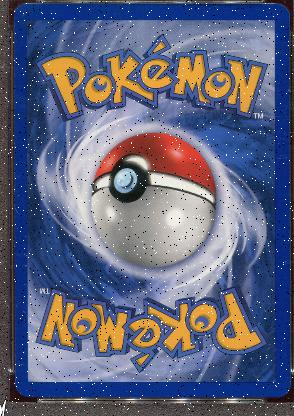Card: (10, 0, 292, 400)
Scratch: (249, 370, 260, 380), (12, 205, 21, 217), (264, 326, 274, 334), (275, 155, 286, 162), (15, 362, 25, 368), (260, 308, 268, 312), (283, 104, 287, 112), (265, 345, 269, 351), (247, 356, 251, 362), (272, 301, 277, 305), (281, 352, 286, 356), (285, 56, 289, 61), (285, 88, 290, 92), (273, 116, 282, 118), (270, 316, 274, 320), (281, 131, 284, 135)
